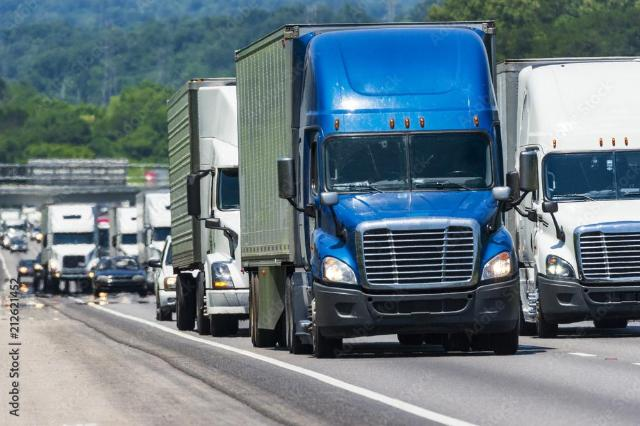truck: (229, 19, 519, 358)
